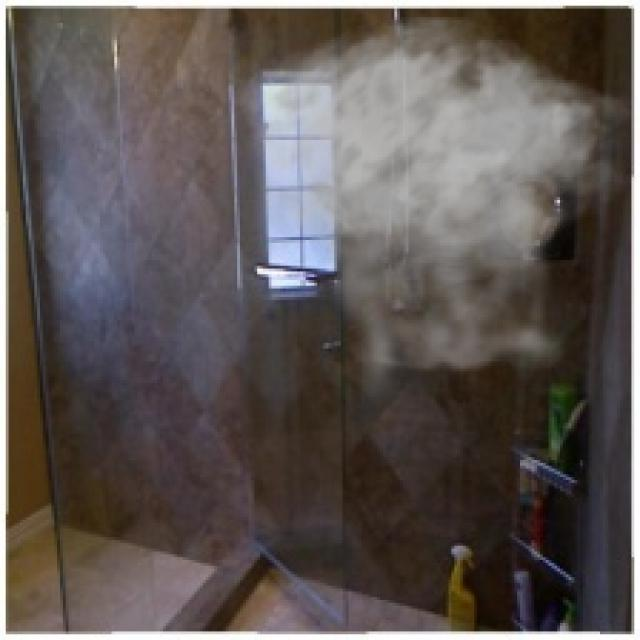smoke: (234, 14, 637, 412)
